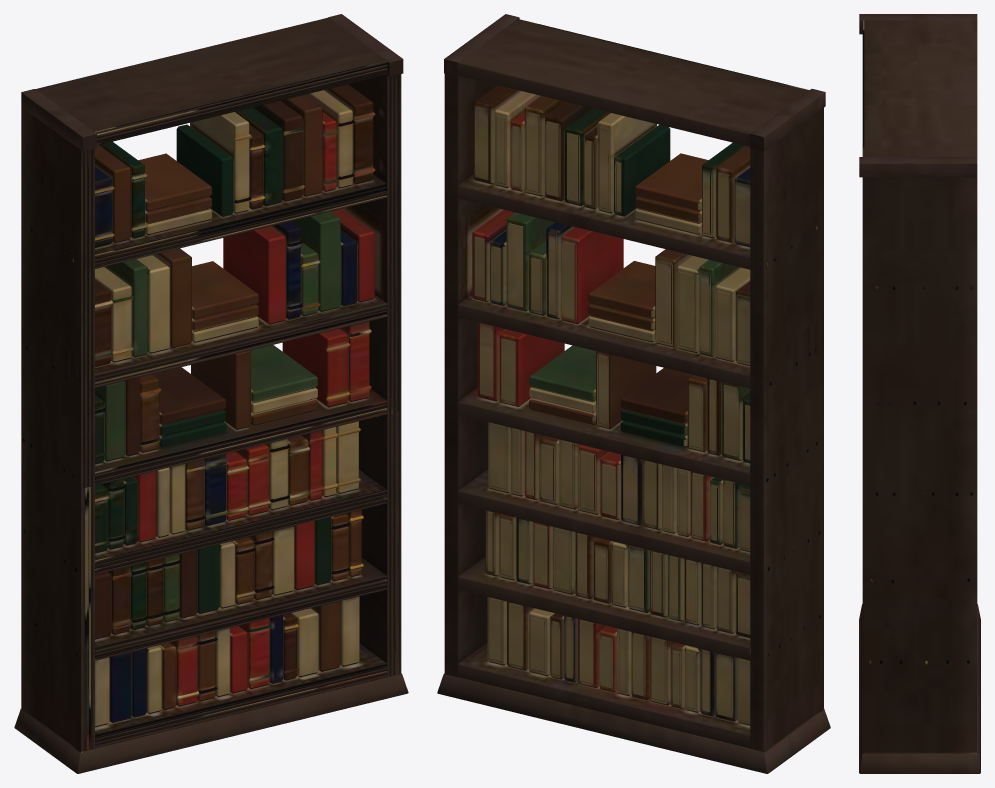
File: bookshelf.glb
3 views of the same model, side by side, from view 1: azimuth 30°, elevation 25°; view 2: azimuth 150°, elevation 25°; view 3: azimuth 270°, elevation 25° (orthographic). The views are drawn at different scales.
Parts seen in each view (by area): view 1: bookshelf; view 2: bookshelf; view 3: bookshelf.
Part boxes in pixels (x1=…): bookshelf: x1=14, y1=14, x2=408, y2=773; bookshelf: x1=437, y1=14, x2=830, y2=773; bookshelf: x1=859, y1=14, x2=980, y2=773.
Bounding box in the file's own units: 1.2 × 2.2 × 0.3998.
1 material, 1 textured.
